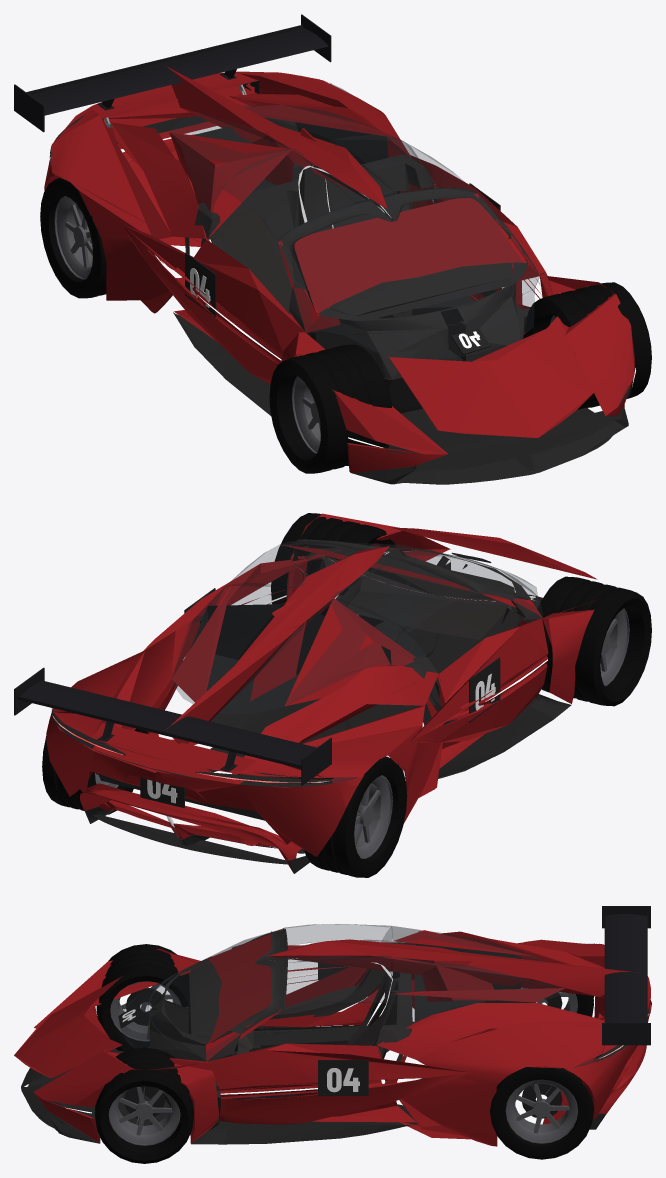
The model's file is vanta_lod1_meshopt_ktx2.glb.
3 renders of one model, top to bottom at view 1: azimuth 30°, elevation 25°; view 2: azimuth 150°, elevation 25°; view 3: azimuth 270°, elevation 25°, orthographic. The views are drawn at different scales.
Visible parts, largest first — view 1: Body, Wheel_FR, Wheel_RR, Wheel_FL; view 2: Body, Wheel_FR, Wheel_RR, Wheel_FL, Wheel_RL; view 3: Body, Wheel_FL, Wheel_RL, Wheel_FR, Wheel_RR.
Part boxes in pixels (left/top/right/bottom): Body: left=14, top=14, right=635, bottom=484; Wheel_FR: left=269, top=344, right=391, bottom=473; Wheel_RR: left=40, top=177, right=106, bottom=298; Wheel_FL: left=524, top=282, right=651, bottom=409; Body: left=14, top=513, right=597, bottom=873; Wheel_FR: left=530, top=576, right=651, bottom=706; Wheel_RR: left=304, top=756, right=407, bottom=877; Wheel_FL: left=271, top=513, right=395, bottom=626; Wheel_RL: left=42, top=728, right=147, bottom=814; Body: left=14, top=906, right=651, bottom=1146; Wheel_FL: left=95, top=1047, right=193, bottom=1163; Wheel_RL: left=490, top=1067, right=593, bottom=1159; Wheel_FR: left=96, top=944, right=188, bottom=1051; Wheel_RR: left=521, top=987, right=593, bottom=1016.
Bounding box in the file's own units: 2.25 × 1.24 × 4.54.
Materials: 6 (1 with a texture image).
